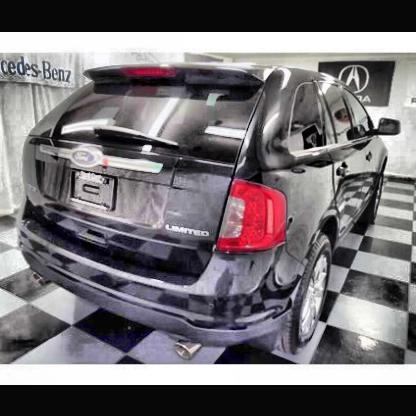Ford Edge SUV 2012: (18, 64, 402, 363)
